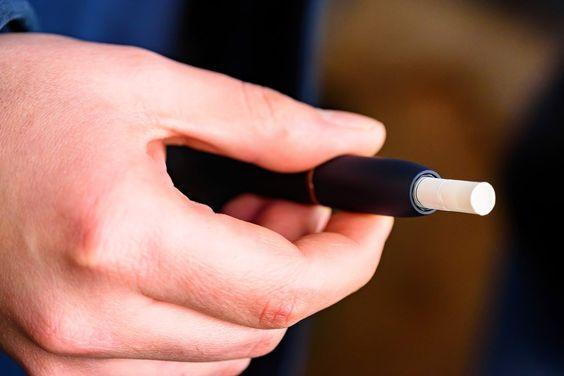iqos: (167, 146, 495, 218)
